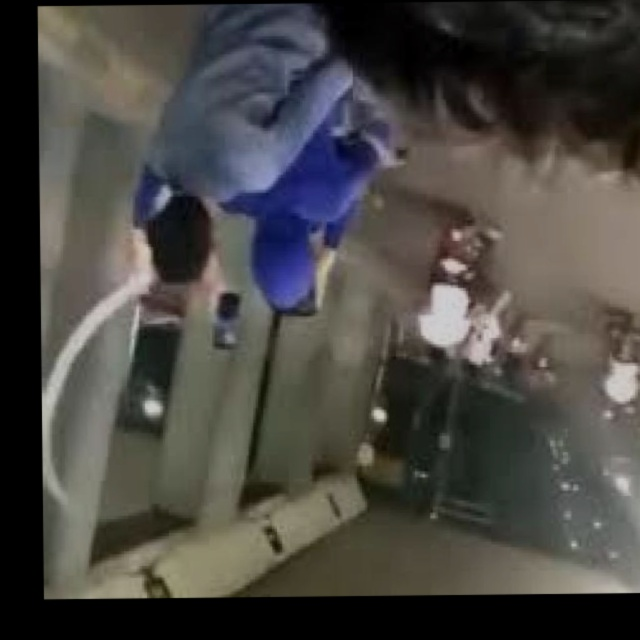Sharp-Object: (39, 164, 160, 536)
